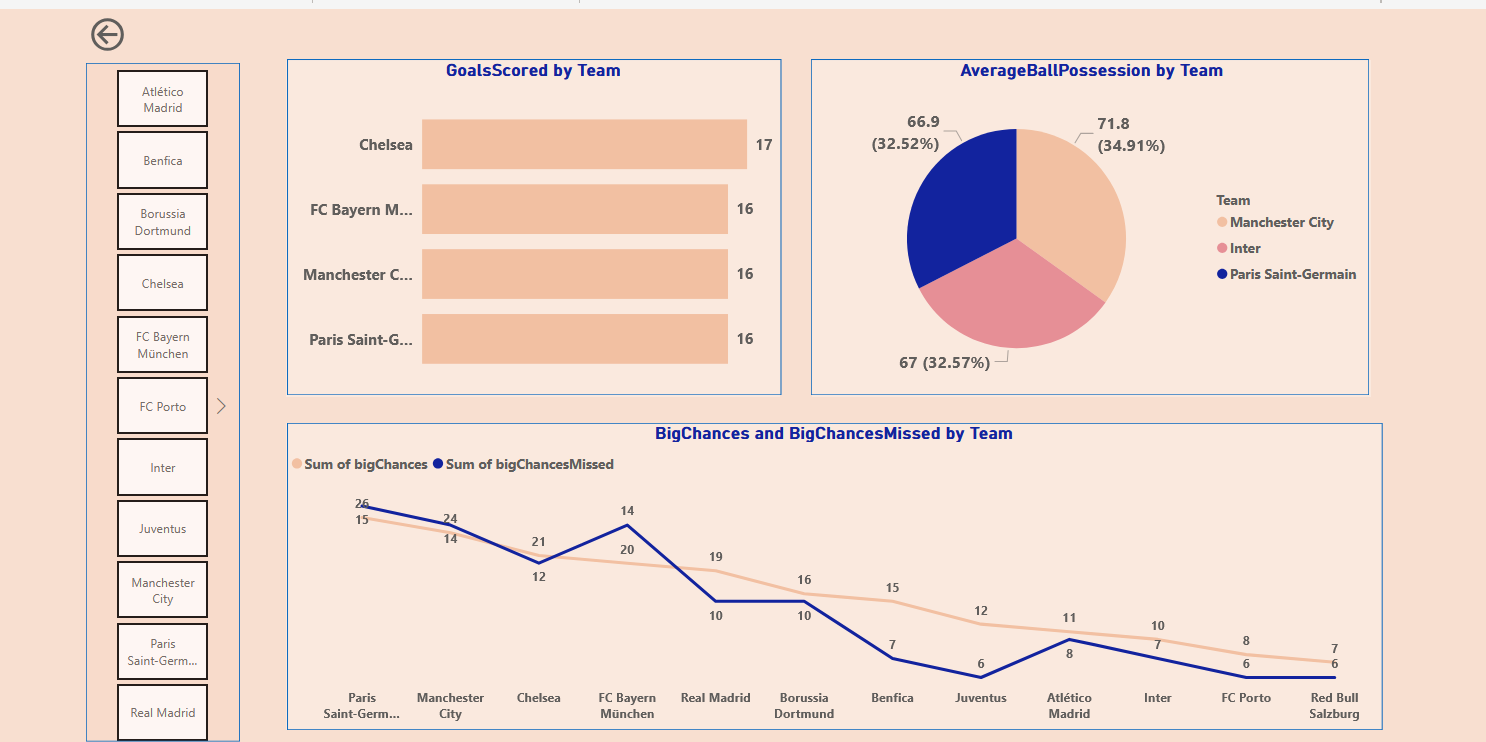

This screenshot's page, from the dashboard's own definition file:
{"tool":"powerbi","page":{"name":"EUROPE","canvas":[1280,720],"ordinal":2},"visuals":[{"type":"barChart","title":"GoalsScored by Team","fields":{"Y":["Sum(club_world_top_teams.goalsScored)"],"Category":["club_world_top_teams.Team"]},"box":[199,49.4,481.6,328],"z":0},{"type":"lineChart","title":"BigChances and BigChancesMissed by Team","fields":{"Category":["club_world_top_teams.Team"],"Y":["Sum(club_world_top_teams.bigChances)"],"Y2":["Sum(club_world_top_teams.bigChancesMissed)"]},"box":[199,403.4,1067.6,299.1],"z":1000},{"type":"pieChart","title":"AverageBallPossession by Team","fields":{"Category":["club_world_top_teams.Team"],"Y":["Sum(club_world_top_teams.averageBallPossession)"]},"box":[710.8,49.4,544.8,328],"z":2000},{"type":"slicer","fields":{"Values":["club_world_top_teams.Team"]},"box":[9,52,138,668],"z":3000},{"type":"actionButton","box":[0,0,100.2,49.4],"z":4000},{"type":"shape","box":[199.3,403.5,1067.5,299.6],"z":5000},{"type":"shape","box":[710.5,48.9,544.2,327.7],"z":6000},{"type":"shape","box":[199.3,48.9,481.8,327.7],"z":7000},{"type":"shape","box":[3.7,52.6,150.4,661.6],"z":8000}]}

Visuals, with their boxes on the page's 1280x720 design canvas (x1, y1, x2, y2). These are canvas units, not pixel positions in the 1486x742 screenshot, which may show the page scaled, cropped or inside an application window:
"GoalsScored by Team" barChart: <box>199,49,681,377</box>
"BigChances and BigChancesMissed by Team" lineChart: <box>199,403,1267,702</box>
"AverageBallPossession by Team" pieChart: <box>711,49,1256,377</box>
slicer - club_world_top_teams.Team: <box>9,52,147,720</box>
actionButton: <box>0,0,100,49</box>
shape: <box>199,404,1267,703</box>
shape: <box>710,49,1255,377</box>
shape: <box>199,49,681,377</box>
shape: <box>4,53,154,714</box>
